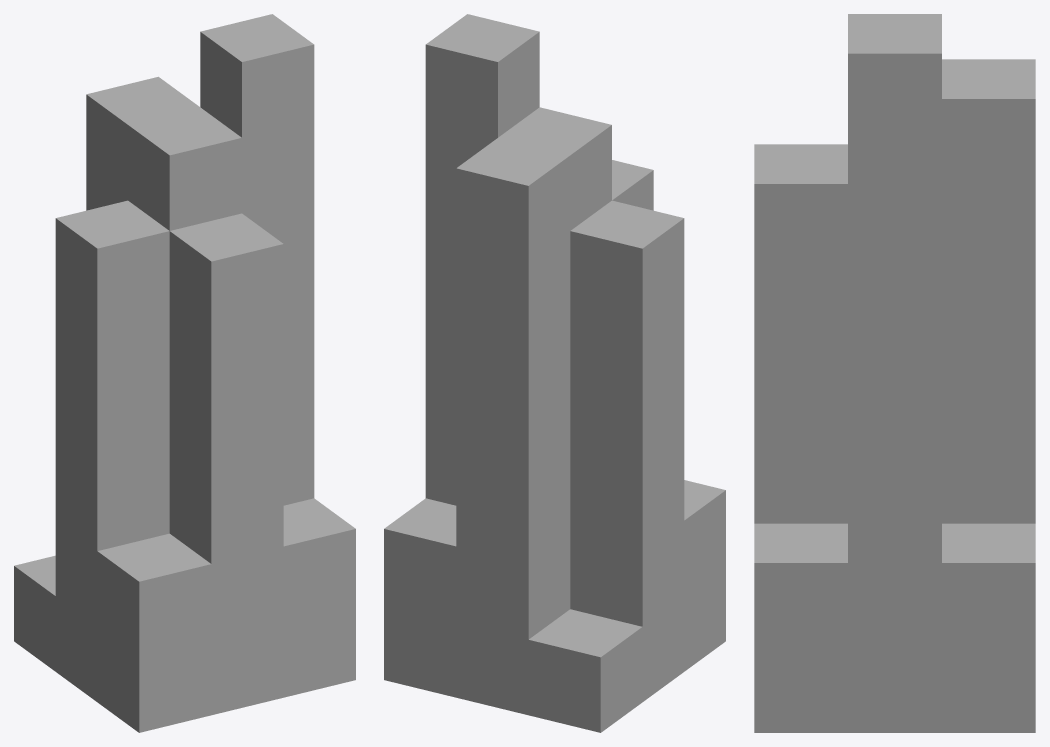
Rendered from obj_column3.fbx.
The picture shows the model from 3 angles, left to right: view 1: azimuth 30°, elevation 25°; view 2: azimuth 150°, elevation 25°; view 3: azimuth 270°, elevation 25°; orthographic projection. The views are drawn at different scales.
Parts seen in each view (by area): view 1: obj_column3; view 2: obj_column3; view 3: obj_column3.
Part boxes in pixels (x1,y1,x2,y2): obj_column3: (14,14,355,732); obj_column3: (384,14,725,732); obj_column3: (754,14,1035,732).
Size of the model in its own units: 0.3 by 0.3 by 0.8.
Materials: 1 (1 with a texture image).
